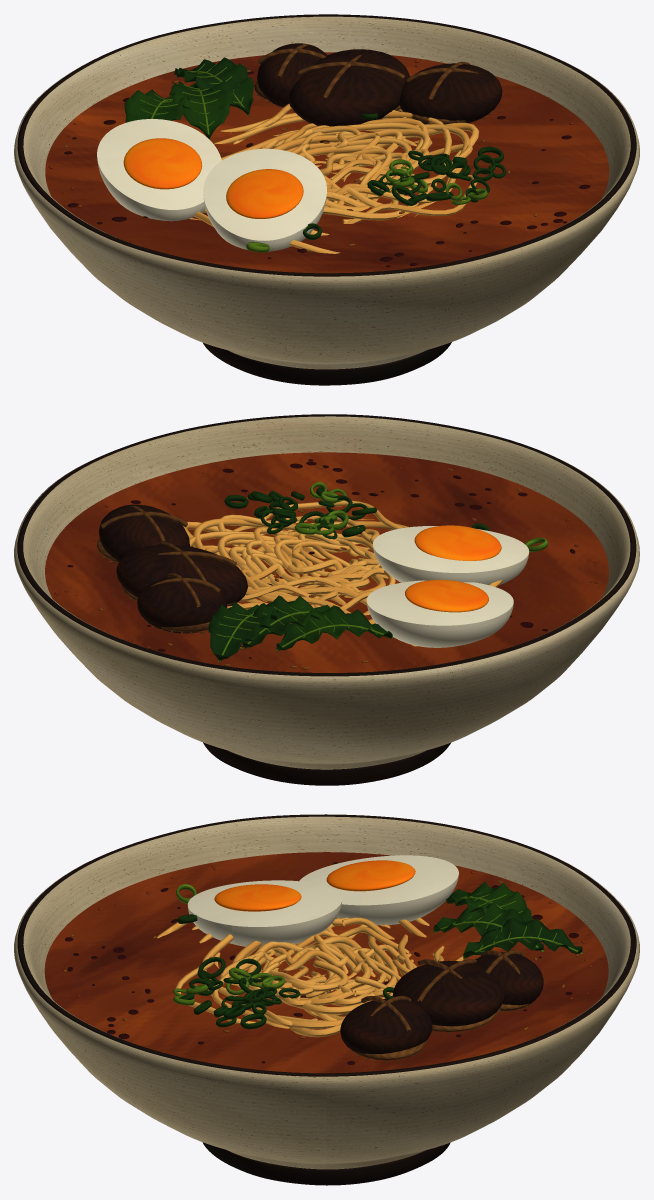
The model's file is realistic-soup.glb.
3 renders of one model, top to bottom at view 1: azimuth 30°, elevation 25°; view 2: azimuth 150°, elevation 25°; view 3: azimuth 270°, elevation 25°, orthographic.
Parts seen in each view (by area): view 1: speckled_ivory_stoneware, golden_miso_broth, marinated_egg_white, fresh_wheat_noodles, shiitake_caps, toasted_clay_rim_and_foot, scallion_greens, jammy_egg_yolk, mushroom_flesh, scallion_hearts, chili_and_aromatic_oil; view 2: speckled_ivory_stoneware, golden_miso_broth, fresh_wheat_noodles, marinated_egg_white, shiitake_caps, toasted_clay_rim_and_foot, scallion_greens, jammy_egg_yolk, mushroom_flesh, scallion_hearts, chili_and_aromatic_oil; view 3: speckled_ivory_stoneware, golden_miso_broth, fresh_wheat_noodles, marinated_egg_white, shiitake_caps, toasted_clay_rim_and_foot, scallion_greens, jammy_egg_yolk, mushroom_flesh, scallion_hearts, chili_and_aromatic_oil.
Part boxes in pixels (bbox=[...]): speckled_ivory_stoneware: bbox=[14, 16, 639, 369]; golden_miso_broth: bbox=[45, 52, 609, 273]; marinated_egg_white: bbox=[97, 119, 326, 251]; fresh_wheat_noodles: bbox=[189, 103, 479, 253]; shiitake_caps: bbox=[257, 43, 502, 126]; toasted_clay_rim_and_foot: bbox=[17, 14, 636, 385]; scallion_greens: bbox=[124, 57, 506, 239]; jammy_egg_yolk: bbox=[123, 138, 303, 218]; mushroom_flesh: bbox=[254, 44, 494, 124]; scallion_hearts: bbox=[138, 63, 487, 252]; chili_and_aromatic_oil: bbox=[64, 71, 590, 268]; speckled_ivory_stoneware: bbox=[14, 416, 639, 769]; golden_miso_broth: bbox=[45, 452, 608, 672]; fresh_wheat_noodles: bbox=[183, 500, 502, 646]; marinated_egg_white: bbox=[366, 526, 529, 647]; shiitake_caps: bbox=[99, 504, 247, 633]; toasted_clay_rim_and_foot: bbox=[17, 414, 636, 785]; scallion_greens: bbox=[208, 486, 489, 662]; jammy_egg_yolk: bbox=[405, 525, 501, 612]; mushroom_flesh: bbox=[96, 505, 236, 634]; scallion_hearts: bbox=[216, 482, 548, 662]; chili_and_aromatic_oil: bbox=[67, 459, 575, 658]; speckled_ivory_stoneware: bbox=[14, 816, 639, 1169]; golden_miso_broth: bbox=[44, 852, 608, 1073]; fresh_wheat_noodles: bbox=[157, 917, 463, 1037]; marinated_egg_white: bbox=[187, 855, 458, 947]; shiitake_caps: bbox=[340, 952, 543, 1053]; toasted_clay_rim_and_foot: bbox=[17, 814, 636, 1185]; scallion_greens: bbox=[177, 882, 582, 1029]; jammy_egg_yolk: bbox=[214, 860, 415, 911]; mushroom_flesh: bbox=[350, 950, 533, 1063]; scallion_hearts: bbox=[173, 884, 582, 1005]; chili_and_aromatic_oil: bbox=[65, 862, 578, 1064].
Bounding box in the file's own units: 2.2 × 0.8038 × 2.2.
Materials: 12 (12 with a texture image).
